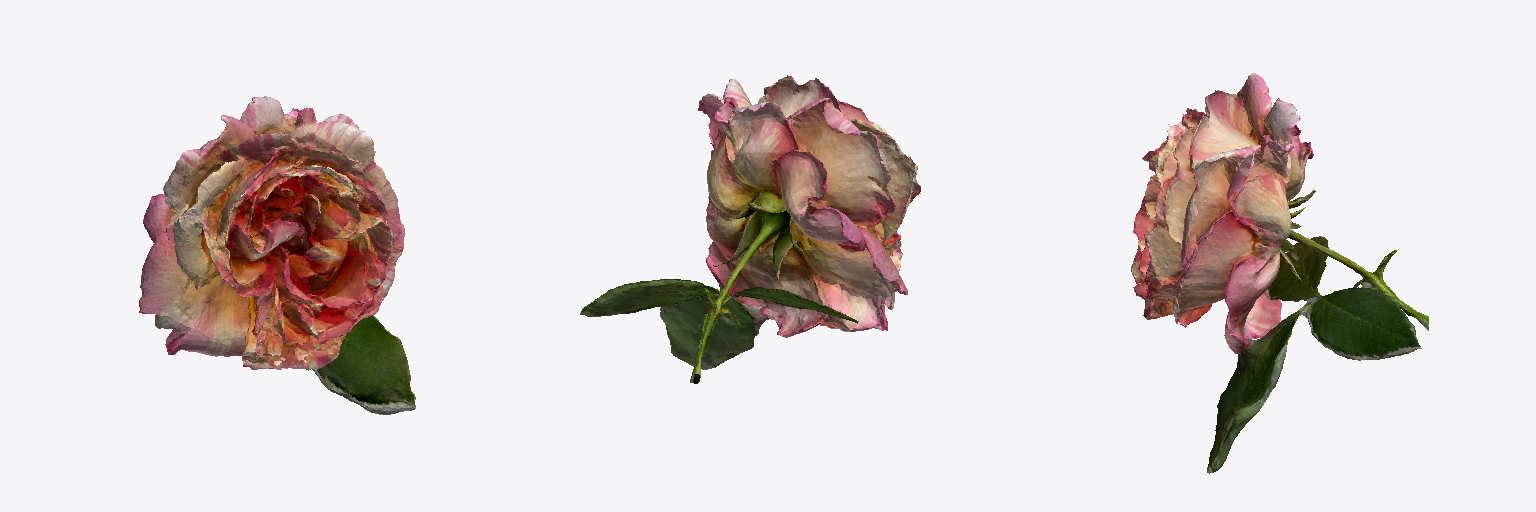
The picture shows the model from 3 angles: view 1: azimuth 30°, elevation 25°; view 2: azimuth 150°, elevation 25°; view 3: azimuth 270°, elevation 25°; orthographic projection.
Visible parts, largest first — view 1: mesh_0; view 2: mesh_0; view 3: mesh_0.
Boxes of the visible parts, <box> form: mesh_0: <box>139,96,415,414</box>; mesh_0: <box>580,75,920,383</box>; mesh_0: <box>1131,73,1428,473</box>.
Size of the model in its own units: 0.257 by 0.3066 by 0.2583.
1 materials, 1 textured.